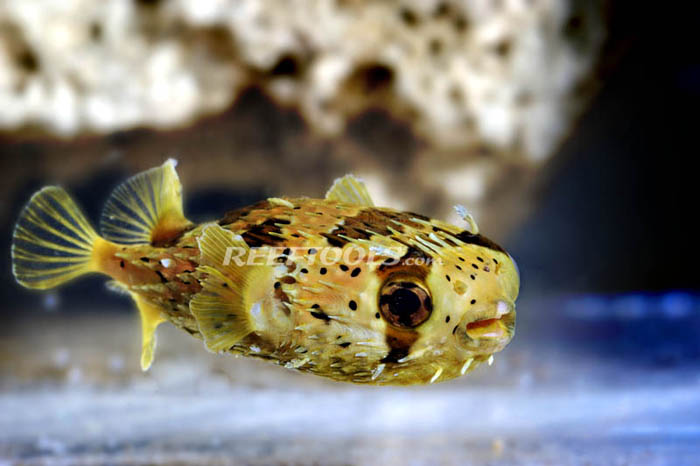Diodon_holocanthus: (10, 155, 538, 388)
